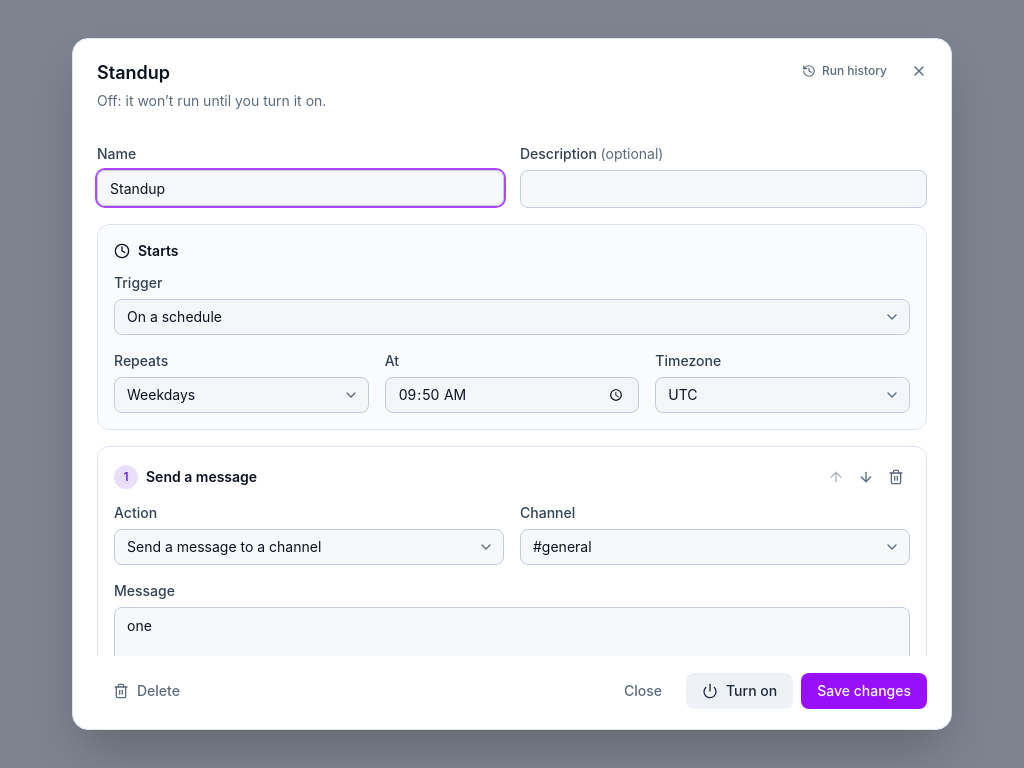
it: WorkflowEditor › shows the run history with each step’s outcome
The image size is (1024, 768).
Click the button with test id "workflow-history-toggle": click(844, 71) [792,57,897,85]
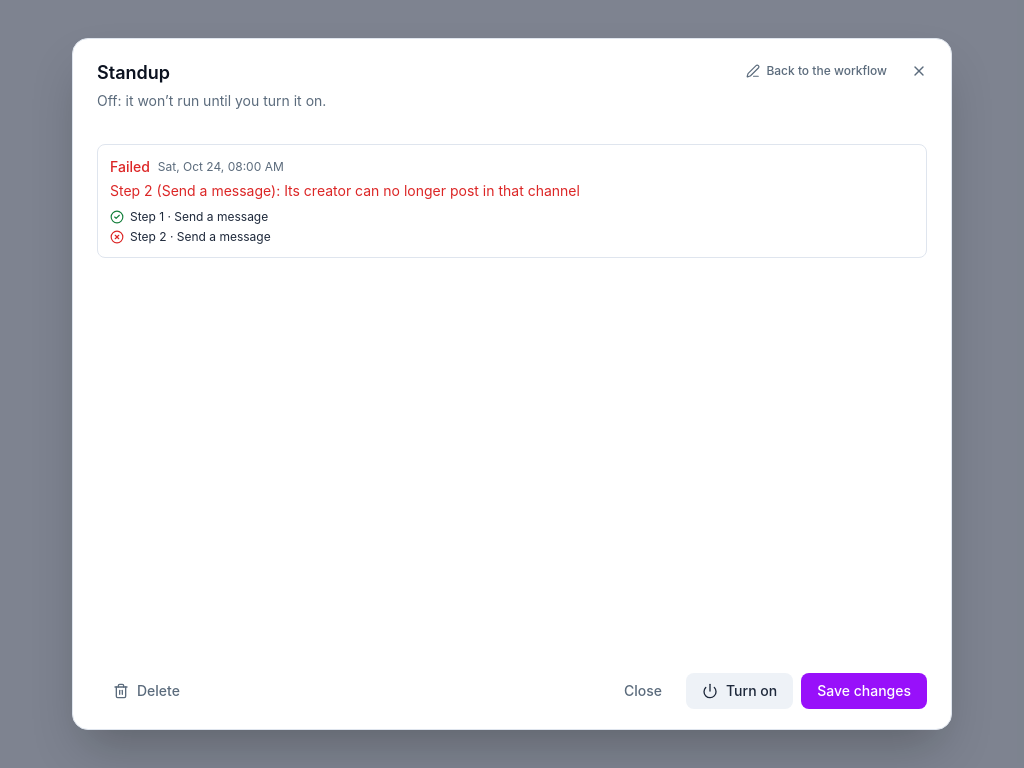
Expected: the text with test id "workflow-run-status" reads "Failed", [110,158,150,175]
Expected: the text with test id "workflow-run-error" shows "Its creator can no longer post", [110,182,580,199]
Expected: the elements with test id "workflow-run-step" read "Step 1 · Send a message", "Step 2 · Send a message", in this order, [110,209,268,224]; [110,229,271,244]
